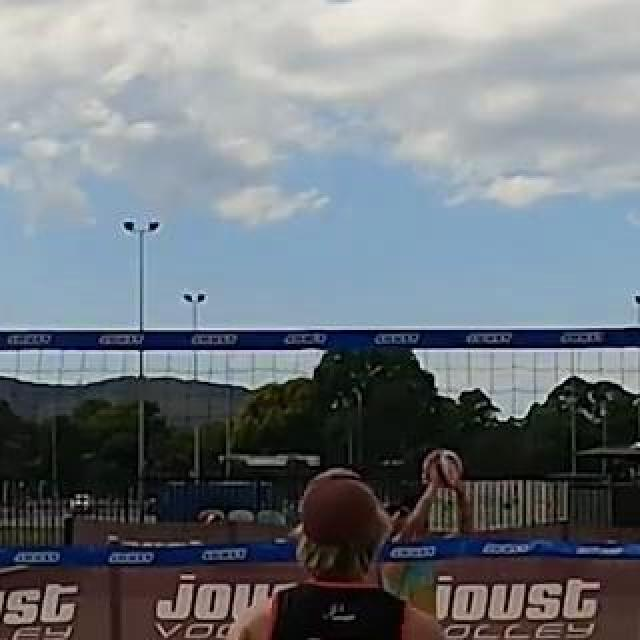volleyball: (426, 449, 464, 487)
